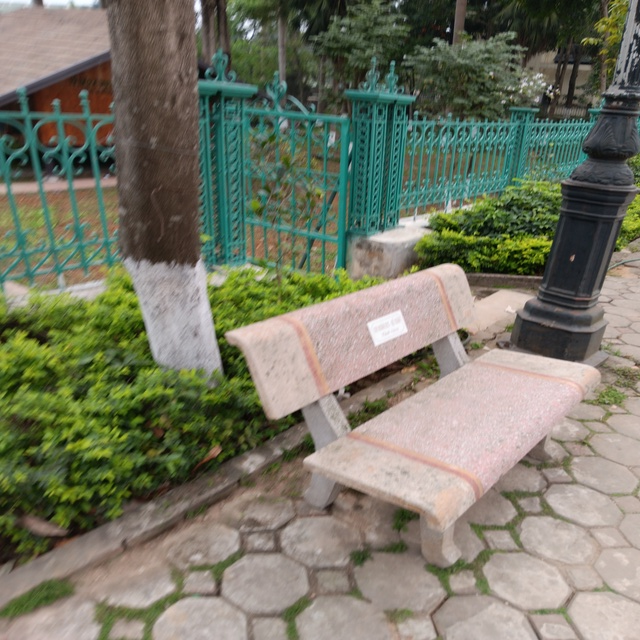gheda: (233, 274, 612, 579)
